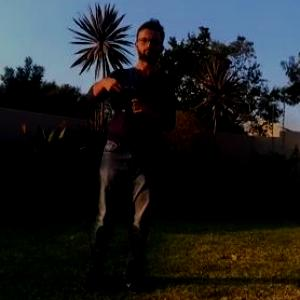follow: (76, 9, 183, 299)
